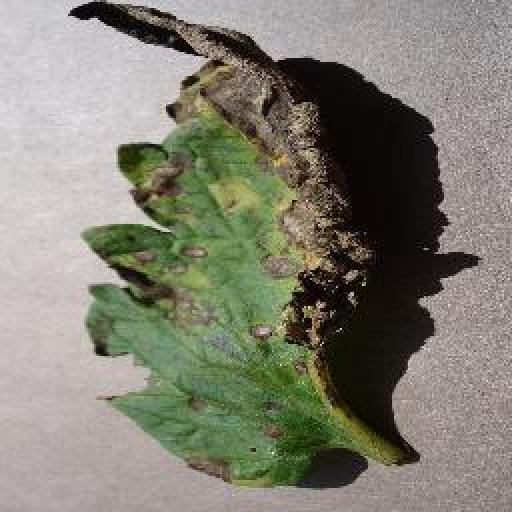Early Blight: (65, 0, 372, 491)
